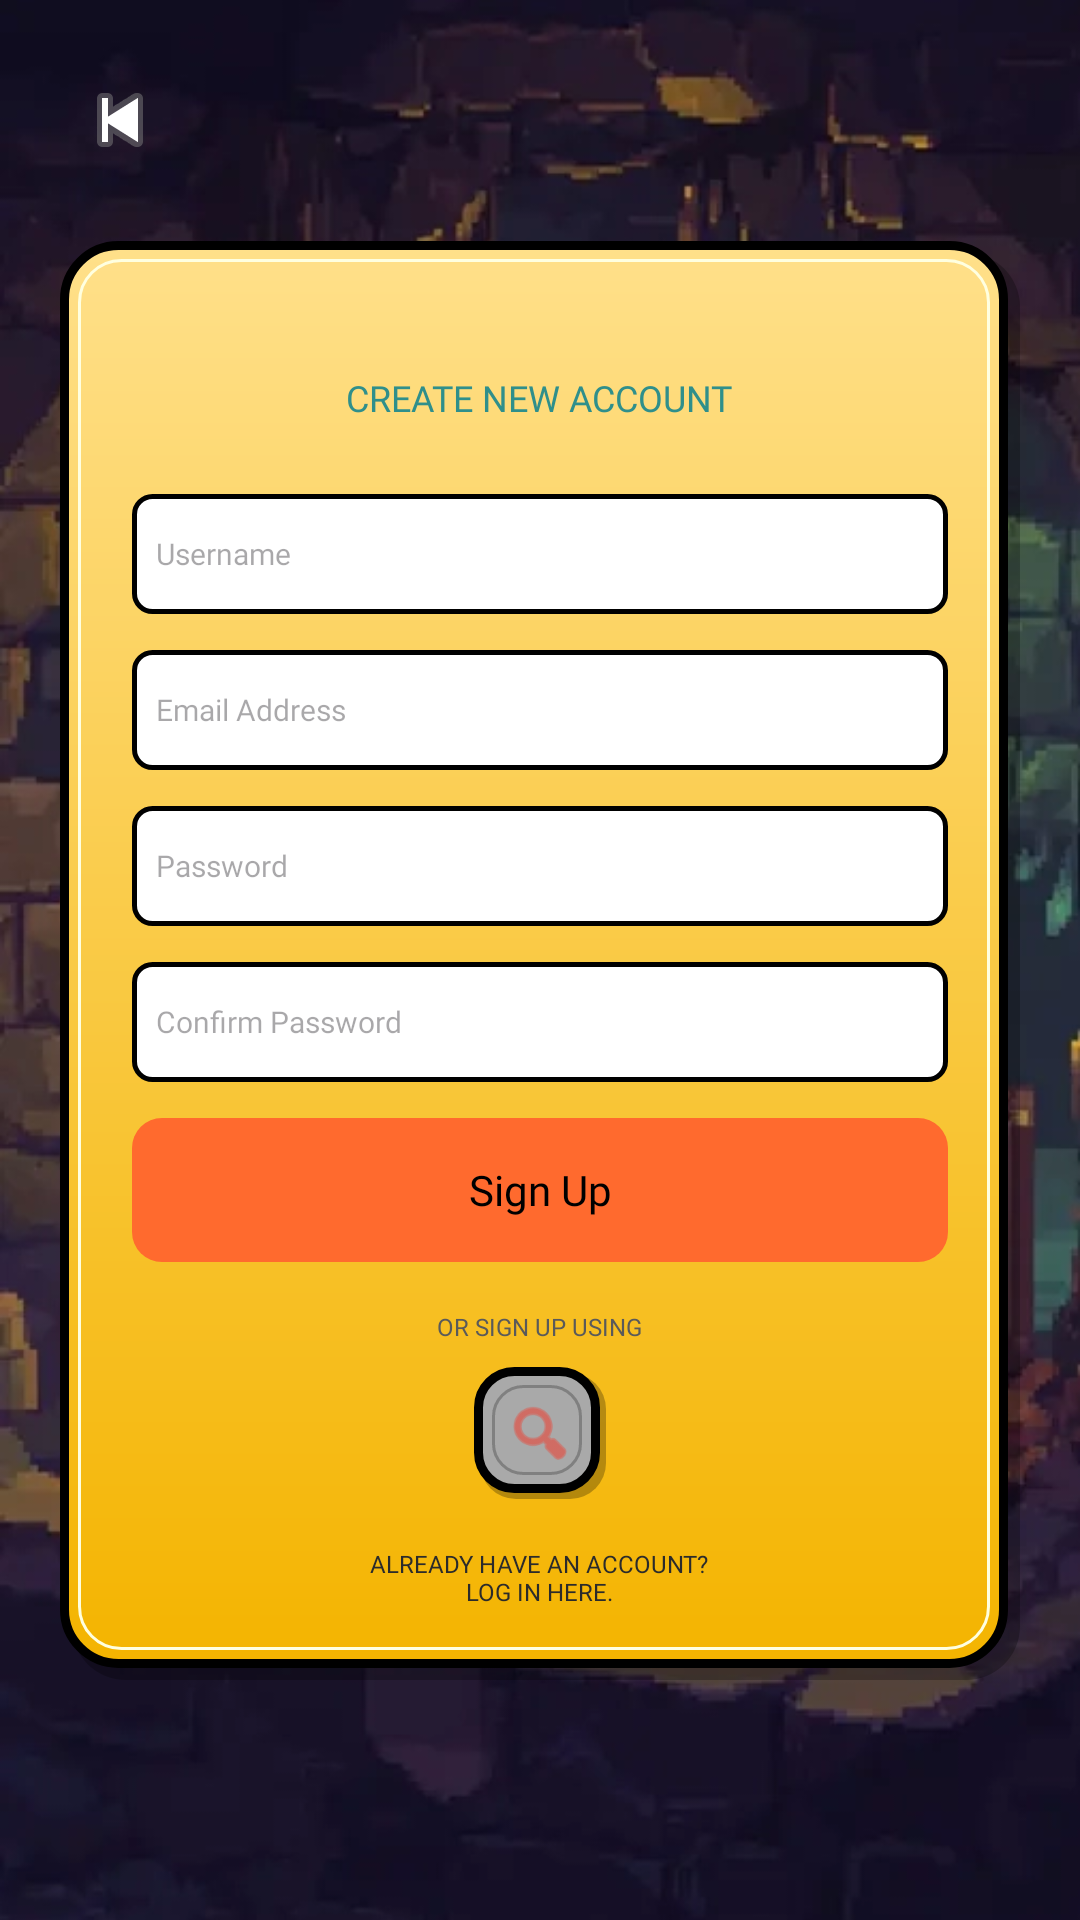

Screen size 1080w x 1920h. Icon name, then its box in pixels as (x1, y1, x2, y2):
Back: (97, 93, 143, 147)
